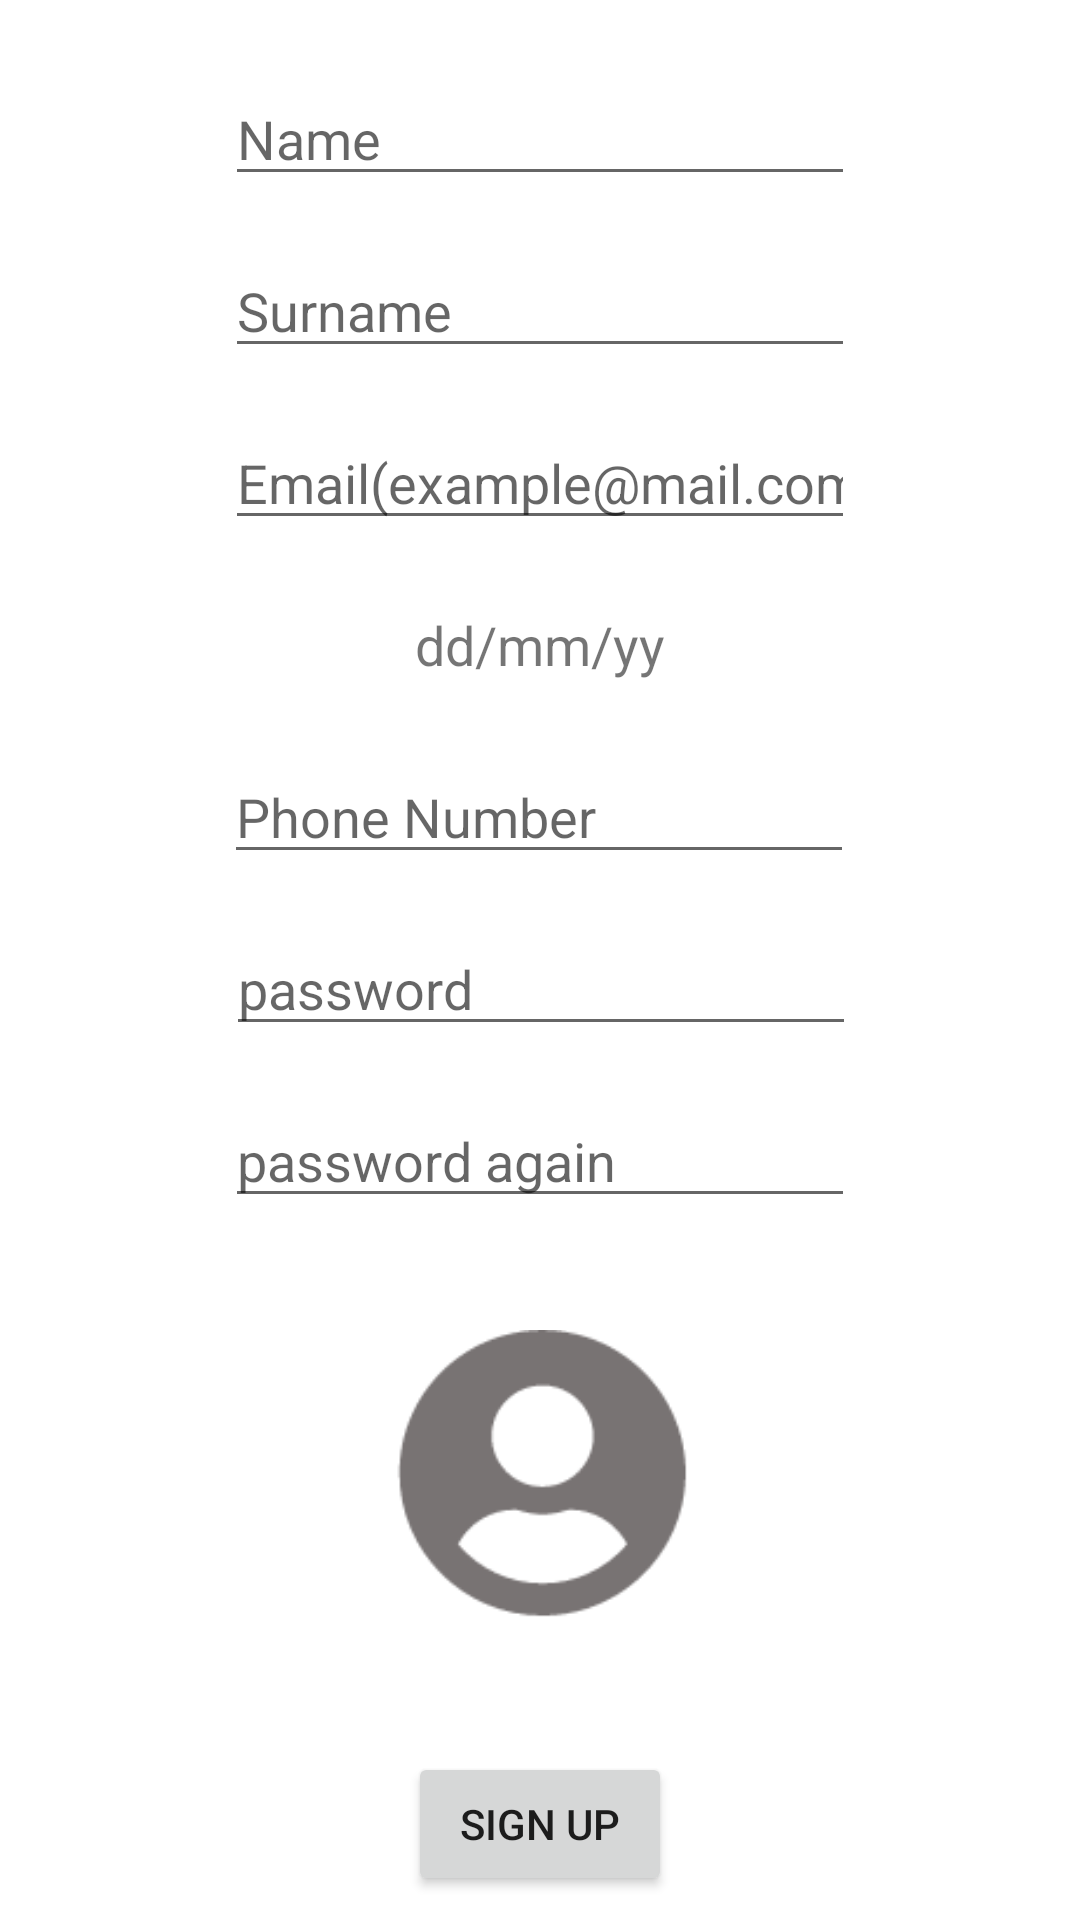

Icon bounding boxes for this 1080×1920 phone screenshot, format (x1, y1, x2, y2):
photo: (398, 1330, 686, 1616)
